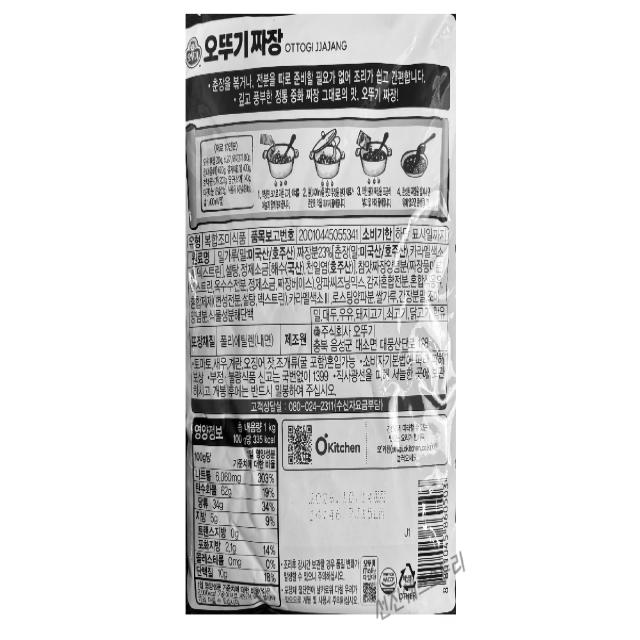Nutrition Label: (191, 414, 282, 613)
